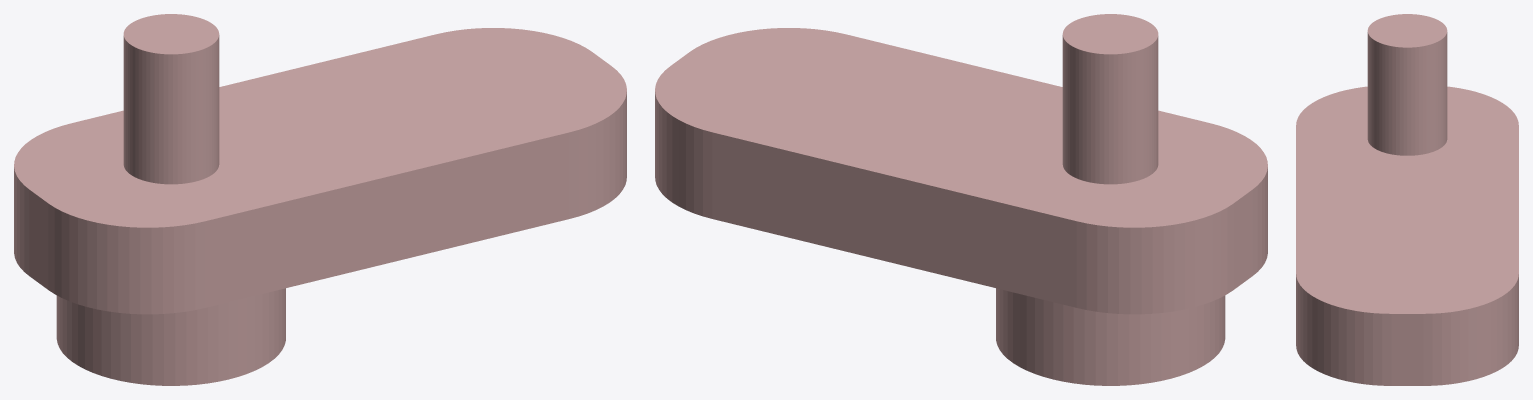
Rendered from arm_r.glb.
The picture shows the model from 3 angles, left to right: view 1: azimuth 30°, elevation 25°; view 2: azimuth 150°, elevation 25°; view 3: azimuth 270°, elevation 25°; orthographic projection. The views are drawn at different scales.
Visible parts, largest first — view 1: arm_r; view 2: arm_r; view 3: arm_r.
Boxes of the visible parts, left/top/right/bottom form: arm_r: left=14, top=14, right=626, bottom=385; arm_r: left=655, top=14, right=1267, bottom=385; arm_r: left=1296, top=14, right=1518, bottom=385.
Size of the model in its own units: 34 by 17.5 by 14.
